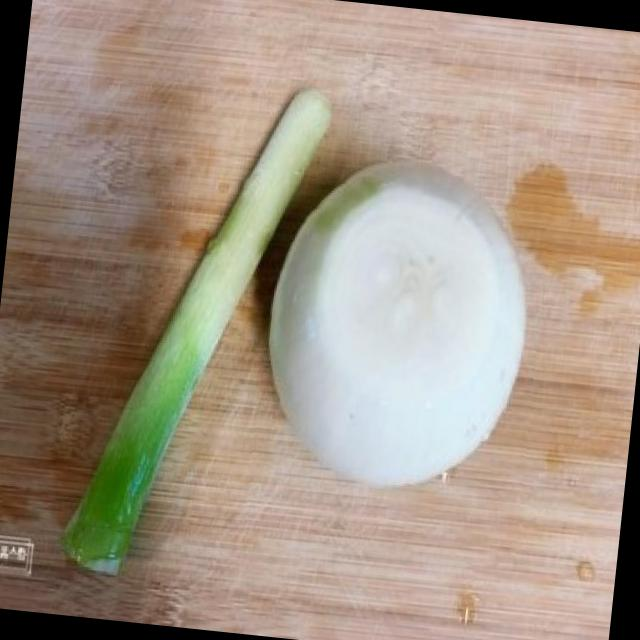Onion: (244, 133, 556, 559)
